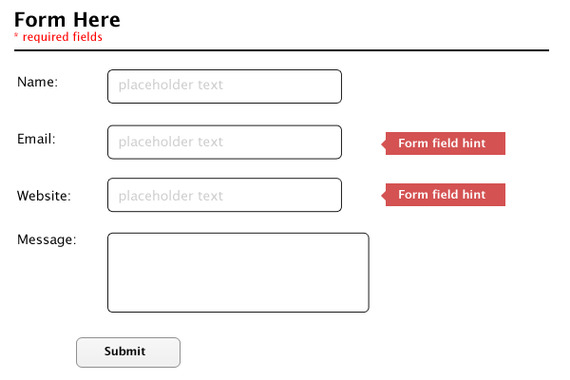_form_: (1, 1, 416, 380)
button: (73, 336, 181, 368)
field: (105, 231, 371, 314), (104, 176, 342, 214), (104, 68, 342, 104), (104, 124, 342, 160)
field_with_label: (18, 229, 373, 316), (16, 174, 343, 216), (17, 66, 343, 106), (18, 123, 342, 161)
